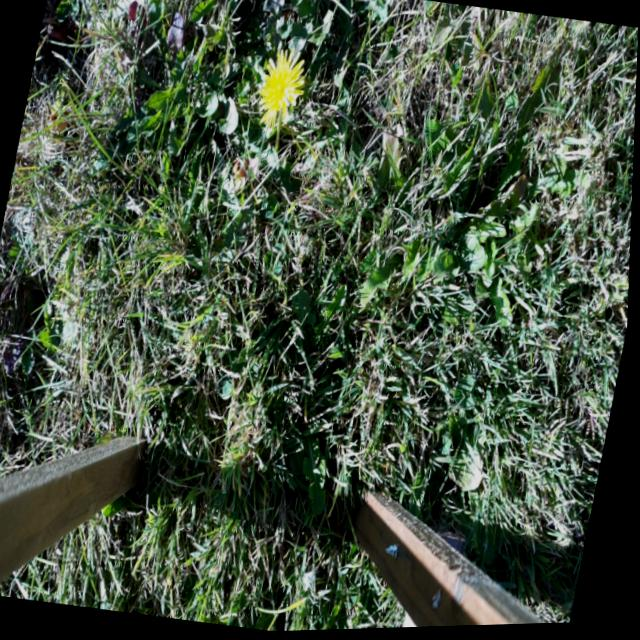base: (265, 135, 290, 169)
